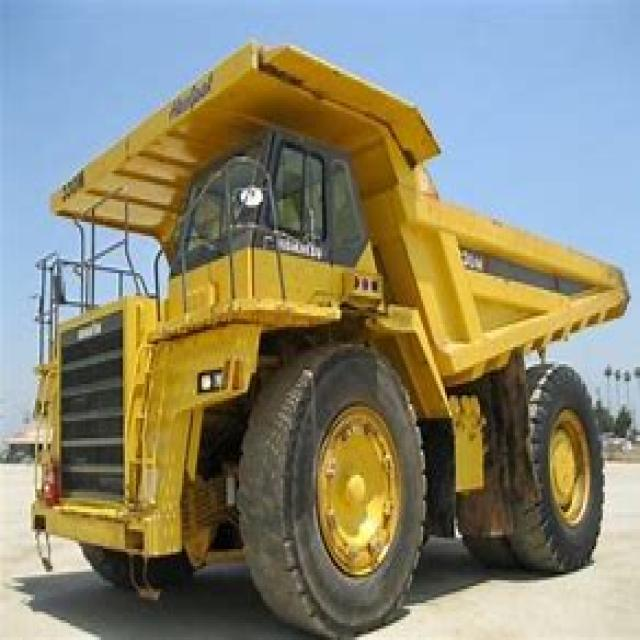dump_truck: (22, 31, 614, 632)
